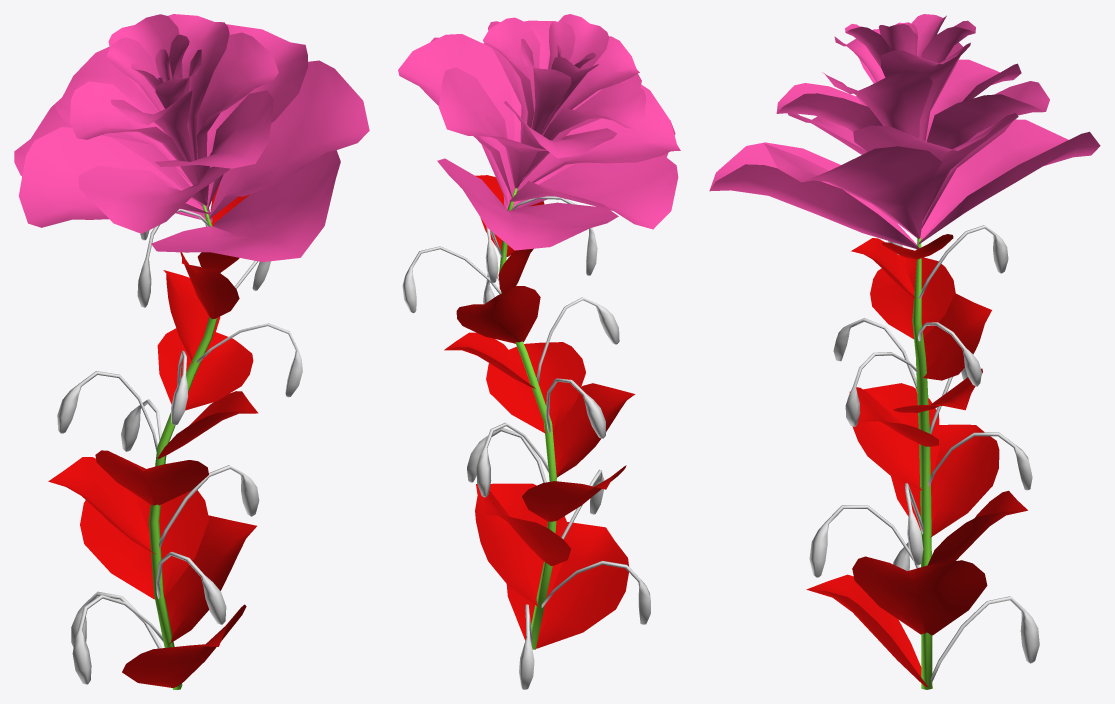
Rendered from EssenseBloom.fbx.
3 renders of one model, left to right at view 1: azimuth 30°, elevation 25°; view 2: azimuth 150°, elevation 25°; view 3: azimuth 270°, elevation 25°, orthographic. The views are drawn at different scales.
Visible parts, largest first — view 1: BasePart; view 2: BasePart; view 3: BasePart.
Part boxes in pixels (x1=…): BasePart: x1=14, y1=14, x2=369, y2=689; BasePart: x1=398, y1=14, x2=680, y2=689; BasePart: x1=709, y1=14, x2=1100, y2=689.
Size of the model in its own units: 163 by 368 by 197.
